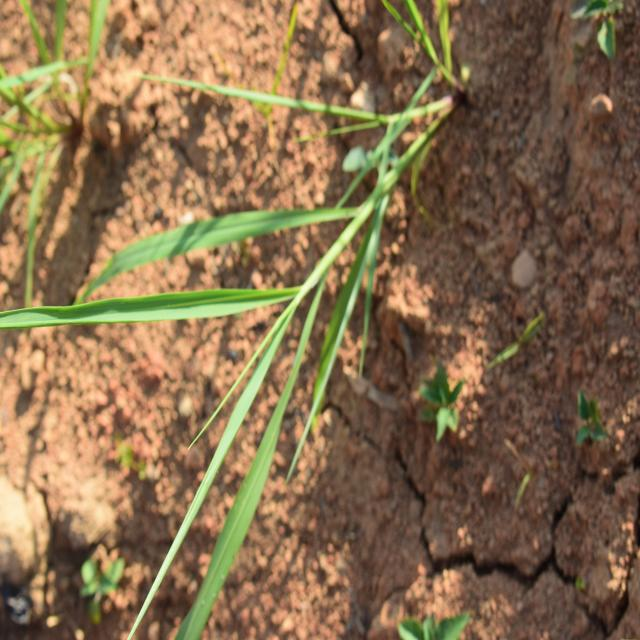green_foxtail: (66, 136, 392, 505)
